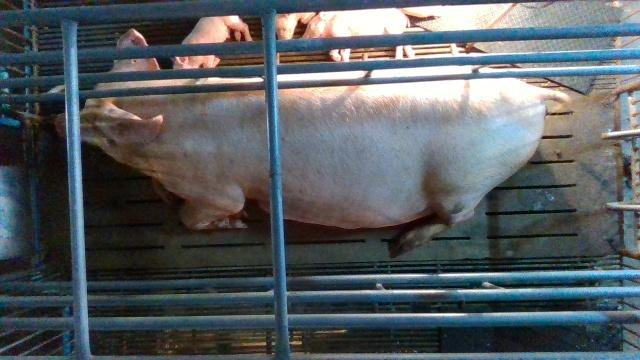piglet: (302, 8, 414, 62), (169, 16, 252, 70), (275, 11, 315, 40)
sow-sleep: (55, 26, 572, 252)
